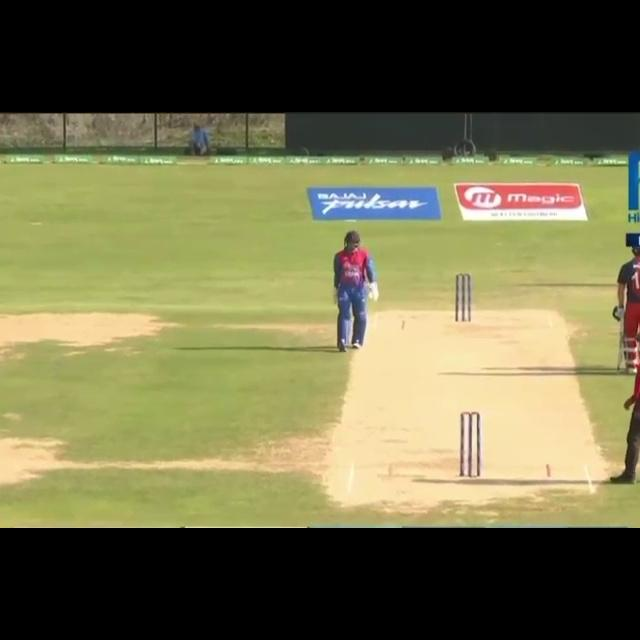umpire: (617, 321, 640, 500)
